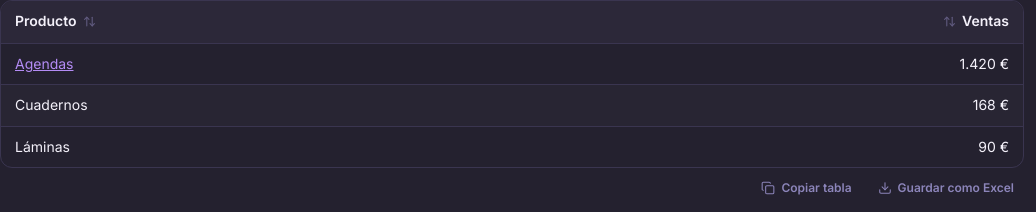
Test case: a table in a reply › sorts by a column, the other way on the next click and back to the reply's order on the third
This screenshot has width=1036, height=212.
Click the button with class "table-sort" showing "Ventas": (976, 21) [943,11,1009,31]
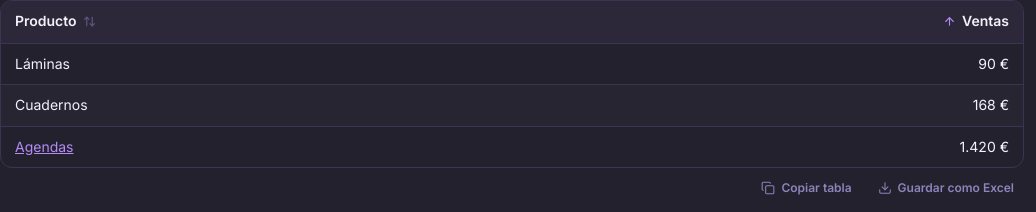
Expected: the column heading "Ventas" has attribute aria-sort="ascending", [549,1,1023,43]
Click the button with class "table-sort" showing "Ventas": (976, 21) [943,11,1009,31]
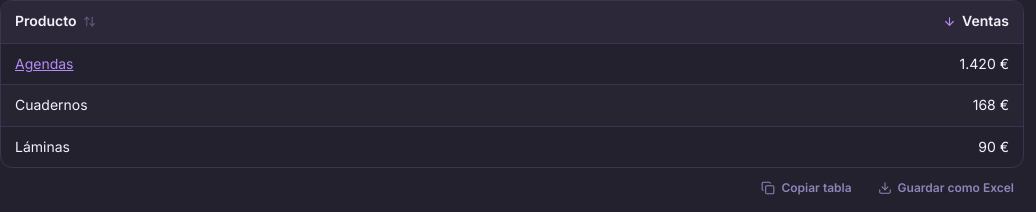
Expected: the column heading "Ventas" has attribute aria-sort="descending", [549,1,1023,43]
Click the button with class "table-sort" showing "Ventas": (976, 21) [943,11,1009,31]
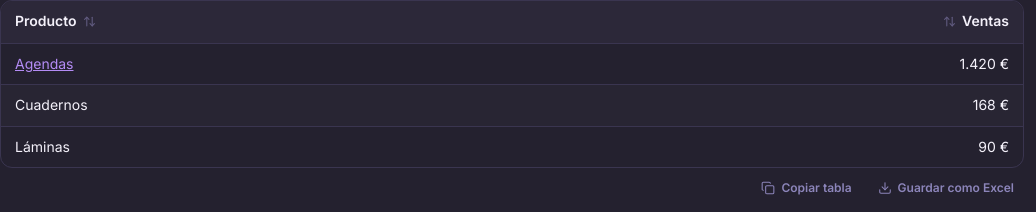
Expected: the column heading "Ventas" has attribute aria-sort="none", [549,1,1023,43]
